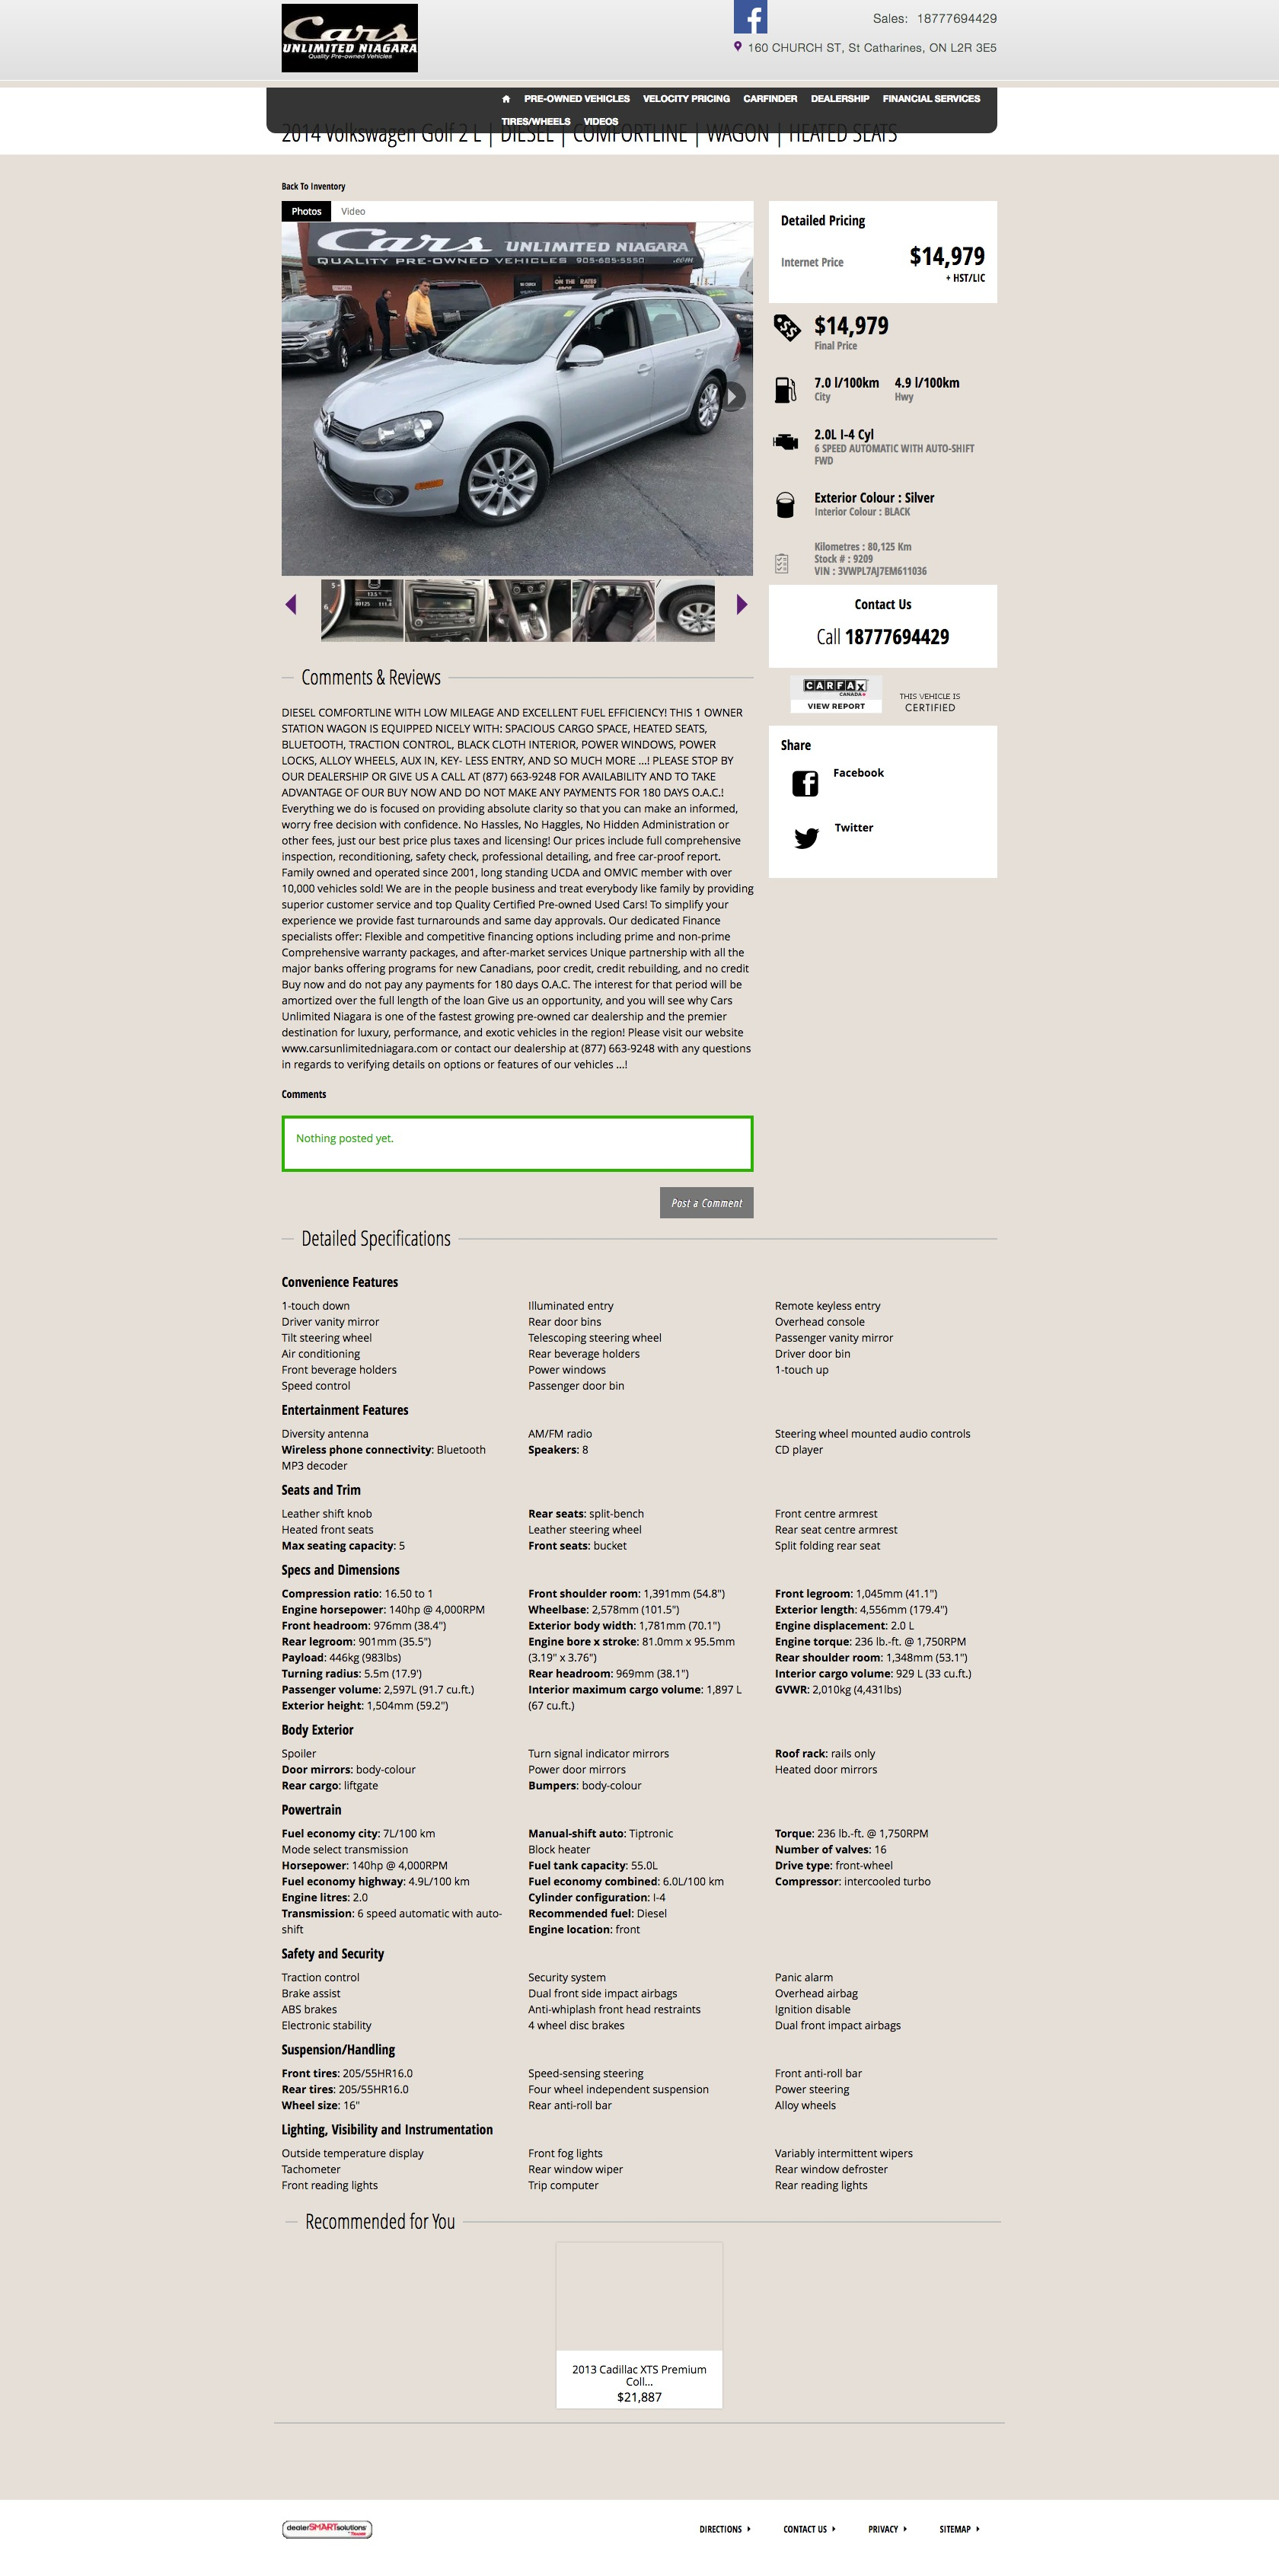car: (736, 595, 749, 616)
